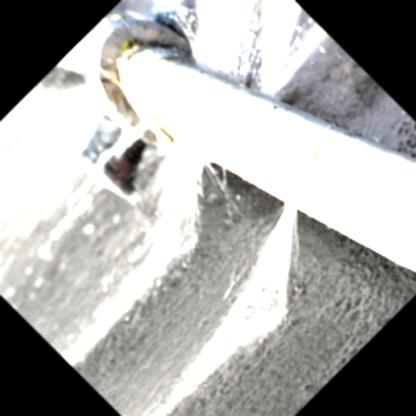burst: (192, 67, 271, 113), (276, 174, 321, 222)
